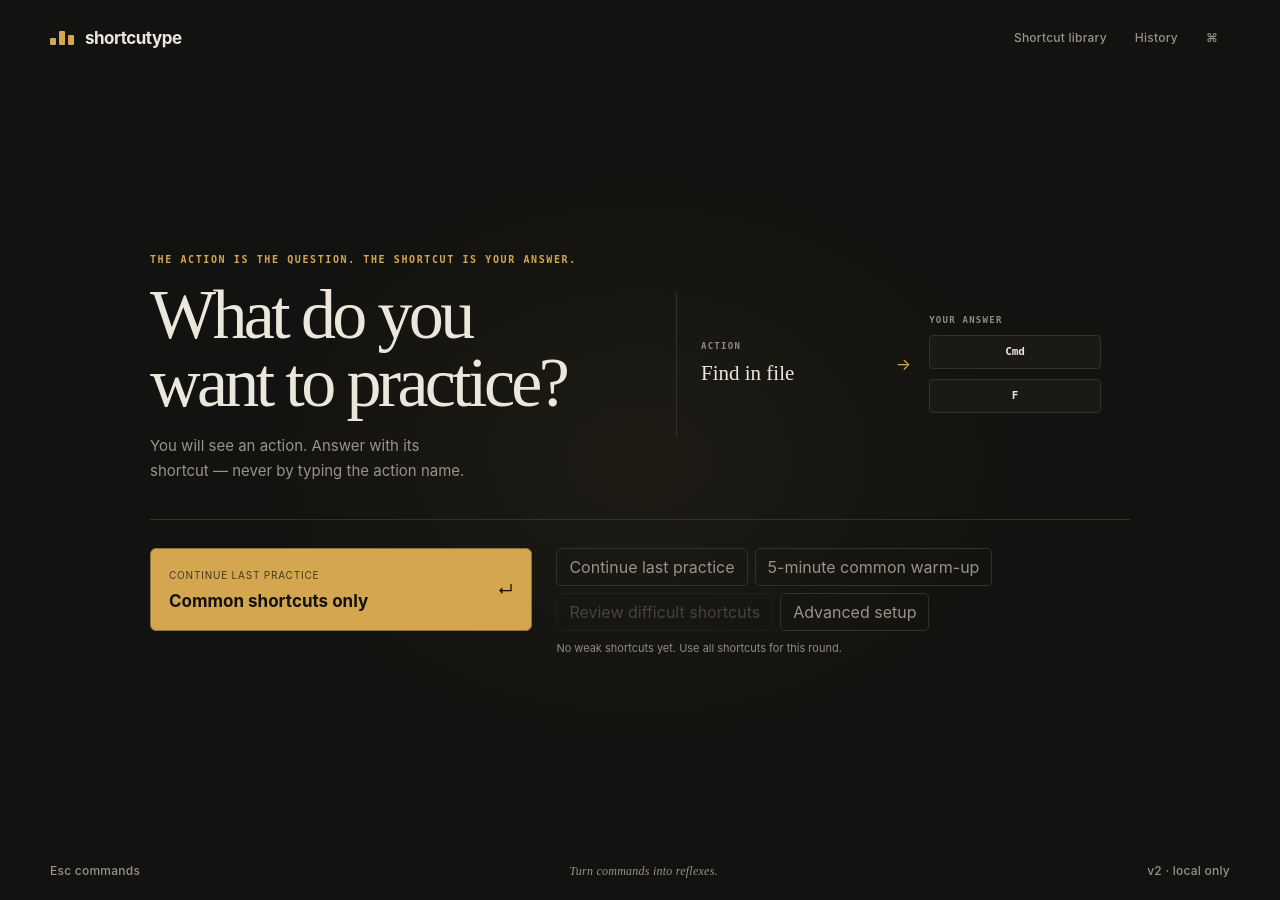
Test: keyboard-first practice flow › closes the settings drawer with Escape
The width and height of the screenshot is (1280, 900).
Click the button named "Practice setup" at [1212, 38], box [1194,22,1230,54]
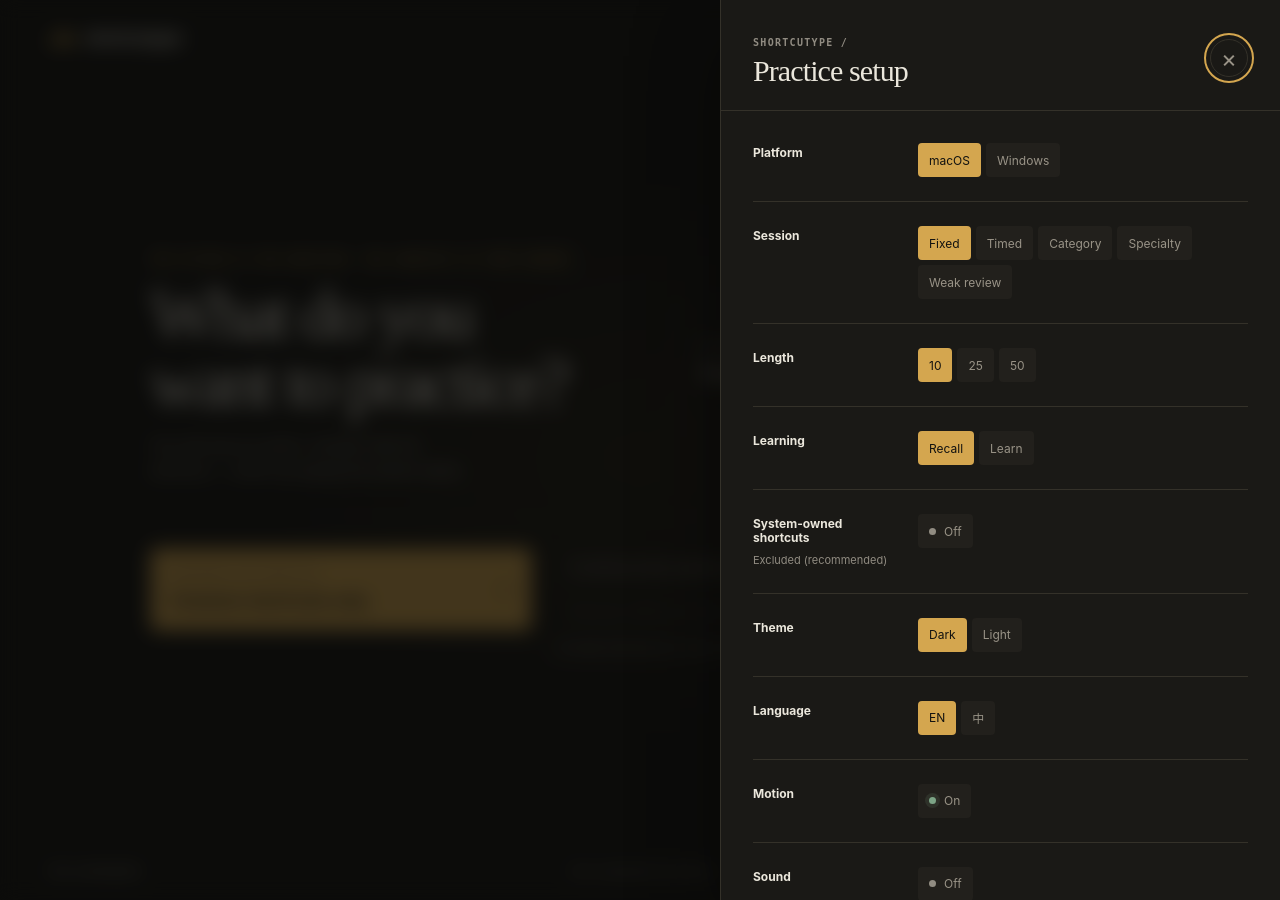
Result: the dialog "Practice setup" is shown at [720,0,1279,899]
Press Escape
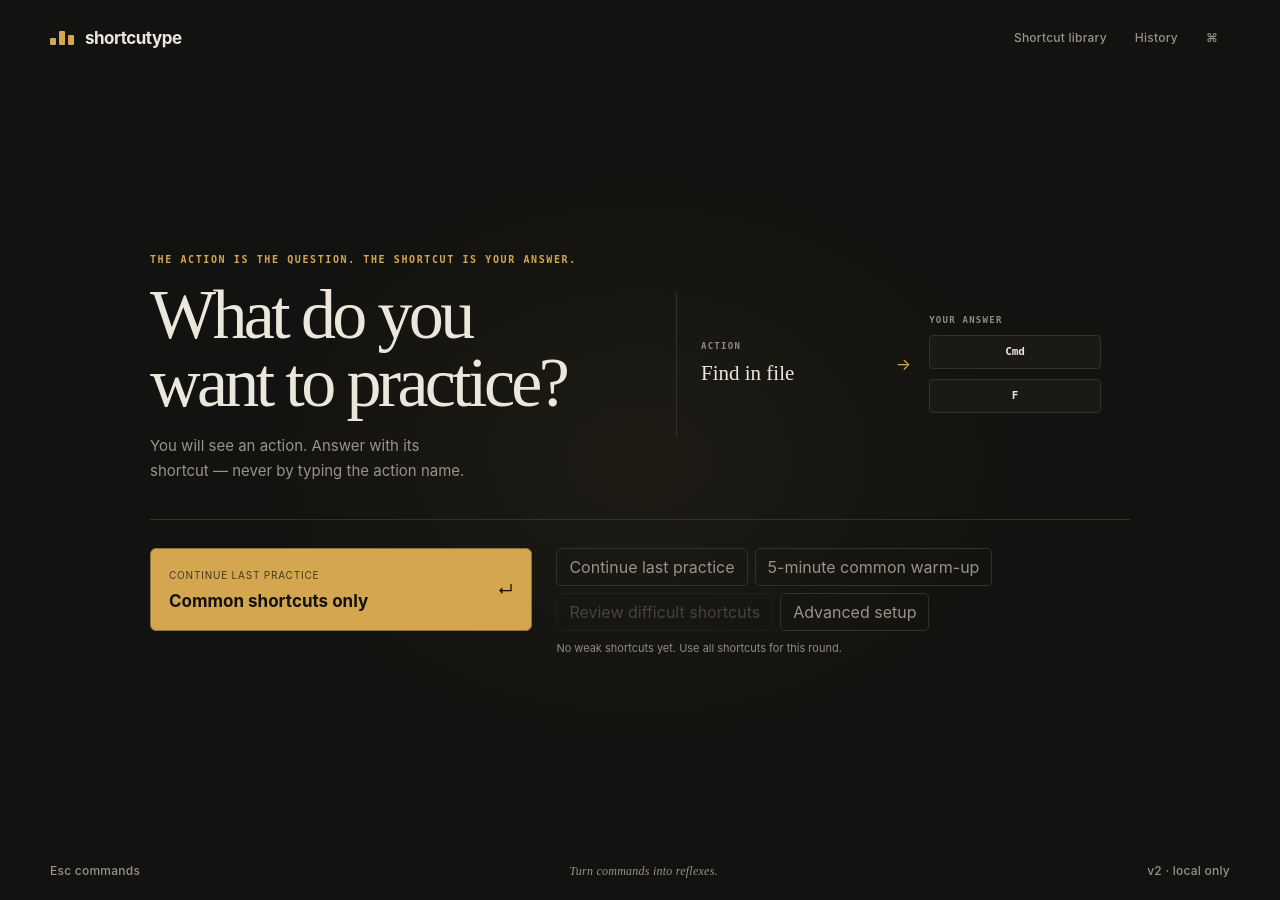
Result: the heading "Practice setup" is gone
